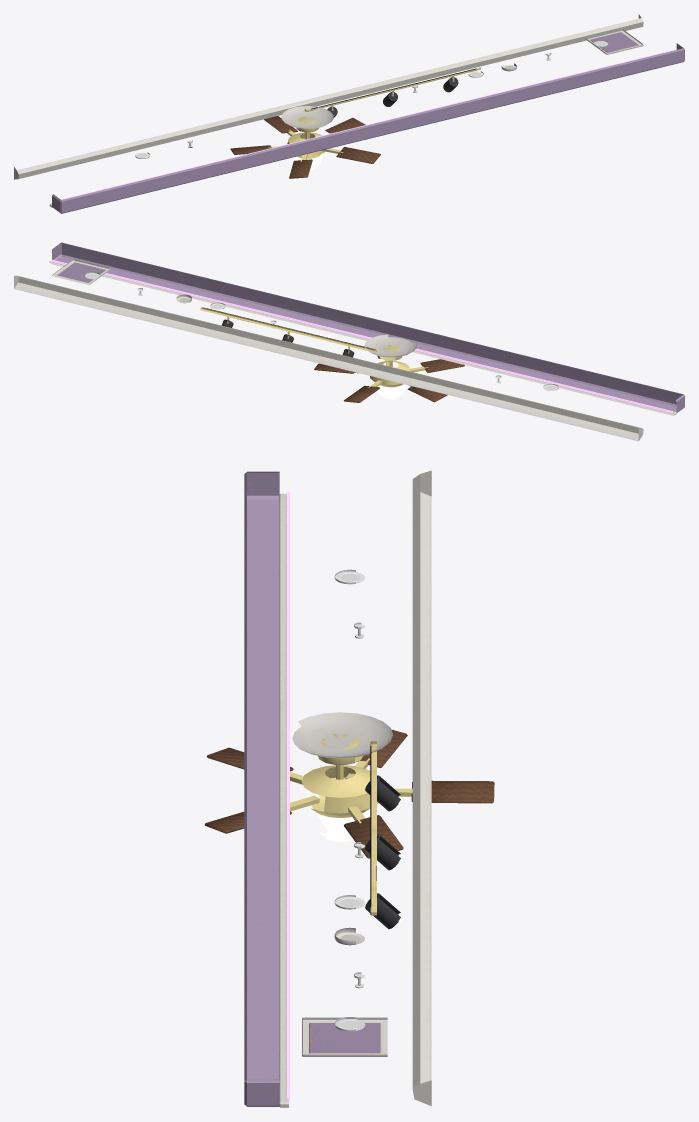
The model's file is ceiling_room1.glb.
3 views of the same model, one above another, from view 1: azimuth 30°, elevation 25°; view 2: azimuth 150°, elevation 25°; view 3: azimuth 270°, elevation 25° (orthographic). The views are drawn at different scales.
Visible parts, largest first — view 1: decor, mesh_fan_blades; view 2: decor, mesh_fan_blades; view 3: decor, mesh_fan_blades.
Boxes of the visible parts, x1=… form: decor: x1=14, y1=14, x2=684, y2=213; mesh_fan_blades: x1=230, y1=116, x2=380, y2=178; decor: x1=14, y1=242, x2=684, y2=441; mesh_fan_blades: x1=314, y1=356, x2=464, y2=402; decor: x1=244, y1=470, x2=431, y2=1107; mesh_fan_blades: x1=204, y1=729, x2=494, y2=858.
Size of the model in its own units: 15 by 1.18 by 3.02.
5 materials, 1 textured.
